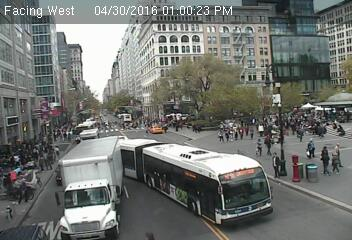neg: (176, 160, 217, 215), (292, 34, 321, 73), (38, 51, 66, 89), (40, 183, 65, 215), (98, 10, 121, 41), (136, 172, 157, 200), (65, 30, 86, 58), (81, 190, 102, 217), (153, 48, 173, 74), (63, 2, 83, 28), (213, 43, 233, 68), (218, 68, 235, 90), (229, 7, 245, 29), (17, 14, 33, 35), (206, 6, 218, 22), (19, 58, 29, 71)
pos: (328, 141, 350, 171), (315, 149, 335, 176), (301, 134, 321, 161), (251, 136, 267, 158), (327, 154, 343, 174), (263, 134, 277, 153), (50, 144, 62, 159), (335, 122, 346, 137), (218, 126, 227, 138), (162, 122, 171, 134), (173, 121, 179, 129)
